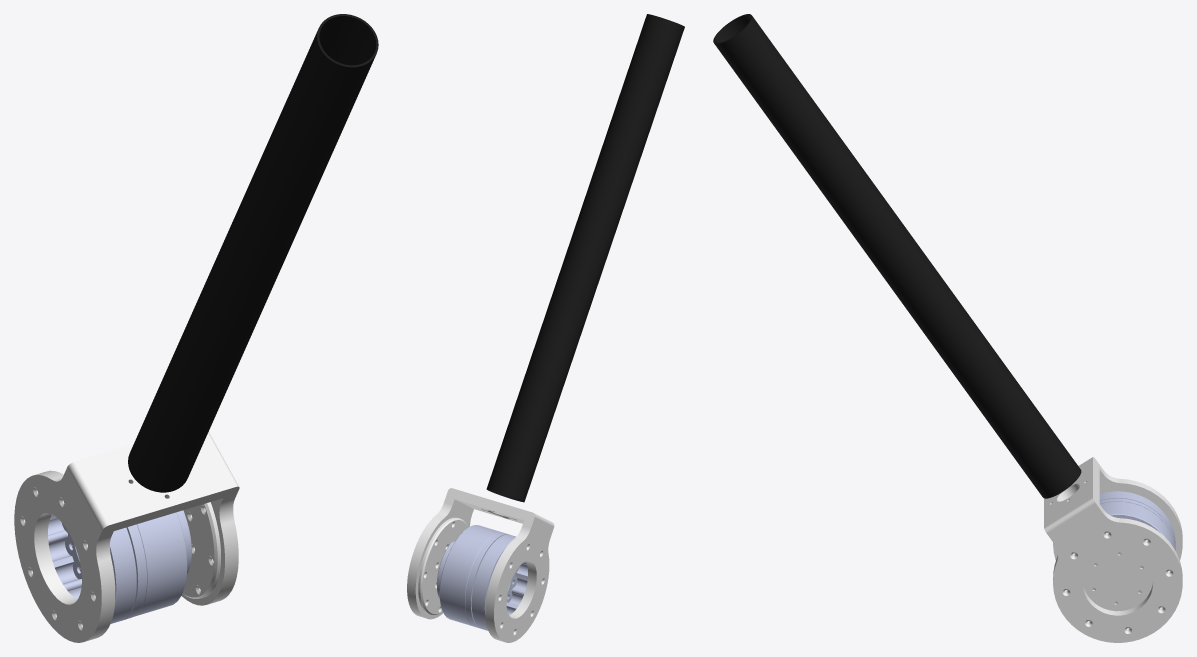
The model's file is elbow.dae.
The picture shows the model from 3 angles, left to right: view 1: azimuth 30°, elevation 25°; view 2: azimuth 150°, elevation 25°; view 3: azimuth 270°, elevation 25°; orthographic projection. The views are drawn at different scales.
Visible parts, largest first — view 1: RA - Assembly v113.step-1/Link_3 (Forearm).step-1/Link_3 (Fo, RA - Assembly v113.step-1/Joint_3 (1).step-1/Connector_J3.st, RA - Assembly v113.step-1/Joint_3 (1).step-1/Cycloidal_Gear_ (×3), RA - Assembly v113.step-1/Joint_3 (1).step-1/Shaft_J2_J3_Mou; view 2: RA - Assembly v113.step-1/Link_3 (Forearm).step-1/Link_3 (Fo, RA - Assembly v113.step-1/Joint_3 (1).step-1/Connector_J3.st, RA - Assembly v113.step-1/Joint_3 (1).step-1/Cycloidal_Gear_ (×3), RA - Assembly v113.step-1/Joint_3 (1).step-1/Shaft_J2_J3_Mou; view 3: RA - Assembly v113.step-1/Link_3 (Forearm).step-1/Link_3 (Fo, RA - Assembly v113.step-1/Joint_3 (1).step-1/Connector_J3.st, RA - Assembly v113.step-1/Joint_3 (1).step-1/Shaft_J2_J3_Mou, RA - Assembly v113.step-1/Joint_3 (1).step-1/Cycloidal_Gear_.
Boxes of the visible parts, x1=… form: RA - Assembly v113.step-1/Link_3 (Forearm).step-1/Link_3 (Fo: x1=128, y1=14, x2=378, y2=492; RA - Assembly v113.step-1/Joint_3 (1).step-1/Connector_J3.st: x1=14, y1=432, x2=239, y2=642; RA - Assembly v113.step-1/Joint_3 (1).step-1/Cycloidal_Gear_ (×3): x1=48, y1=510, x2=191, y2=623; RA - Assembly v113.step-1/Joint_3 (1).step-1/Shaft_J2_J3_Mou: x1=182, y1=502, x2=220, y2=598; RA - Assembly v113.step-1/Link_3 (Forearm).step-1/Link_3 (Fo: x1=486, y1=14, x2=684, y2=502; RA - Assembly v113.step-1/Joint_3 (1).step-1/Connector_J3.st: x1=407, y1=488, x2=554, y2=642; RA - Assembly v113.step-1/Joint_3 (1).step-1/Cycloidal_Gear_ (×3): x1=436, y1=525, x2=527, y2=630; RA - Assembly v113.step-1/Joint_3 (1).step-1/Shaft_J2_J3_Mou: x1=418, y1=517, x2=468, y2=615; RA - Assembly v113.step-1/Link_3 (Forearm).step-1/Link_3 (Fo: x1=713, y1=14, x2=1081, y2=498; RA - Assembly v113.step-1/Joint_3 (1).step-1/Connector_J3.st: x1=1044, y1=457, x2=1182, y2=642; RA - Assembly v113.step-1/Joint_3 (1).step-1/Shaft_J2_J3_Mou: x1=1082, y1=550, x2=1152, y2=611; RA - Assembly v113.step-1/Joint_3 (1).step-1/Cycloidal_Gear_: x1=1092, y1=501, x2=1175, y2=603.
Bounding box in the file's own units: 0.107 × 0.398 × 0.5536.
